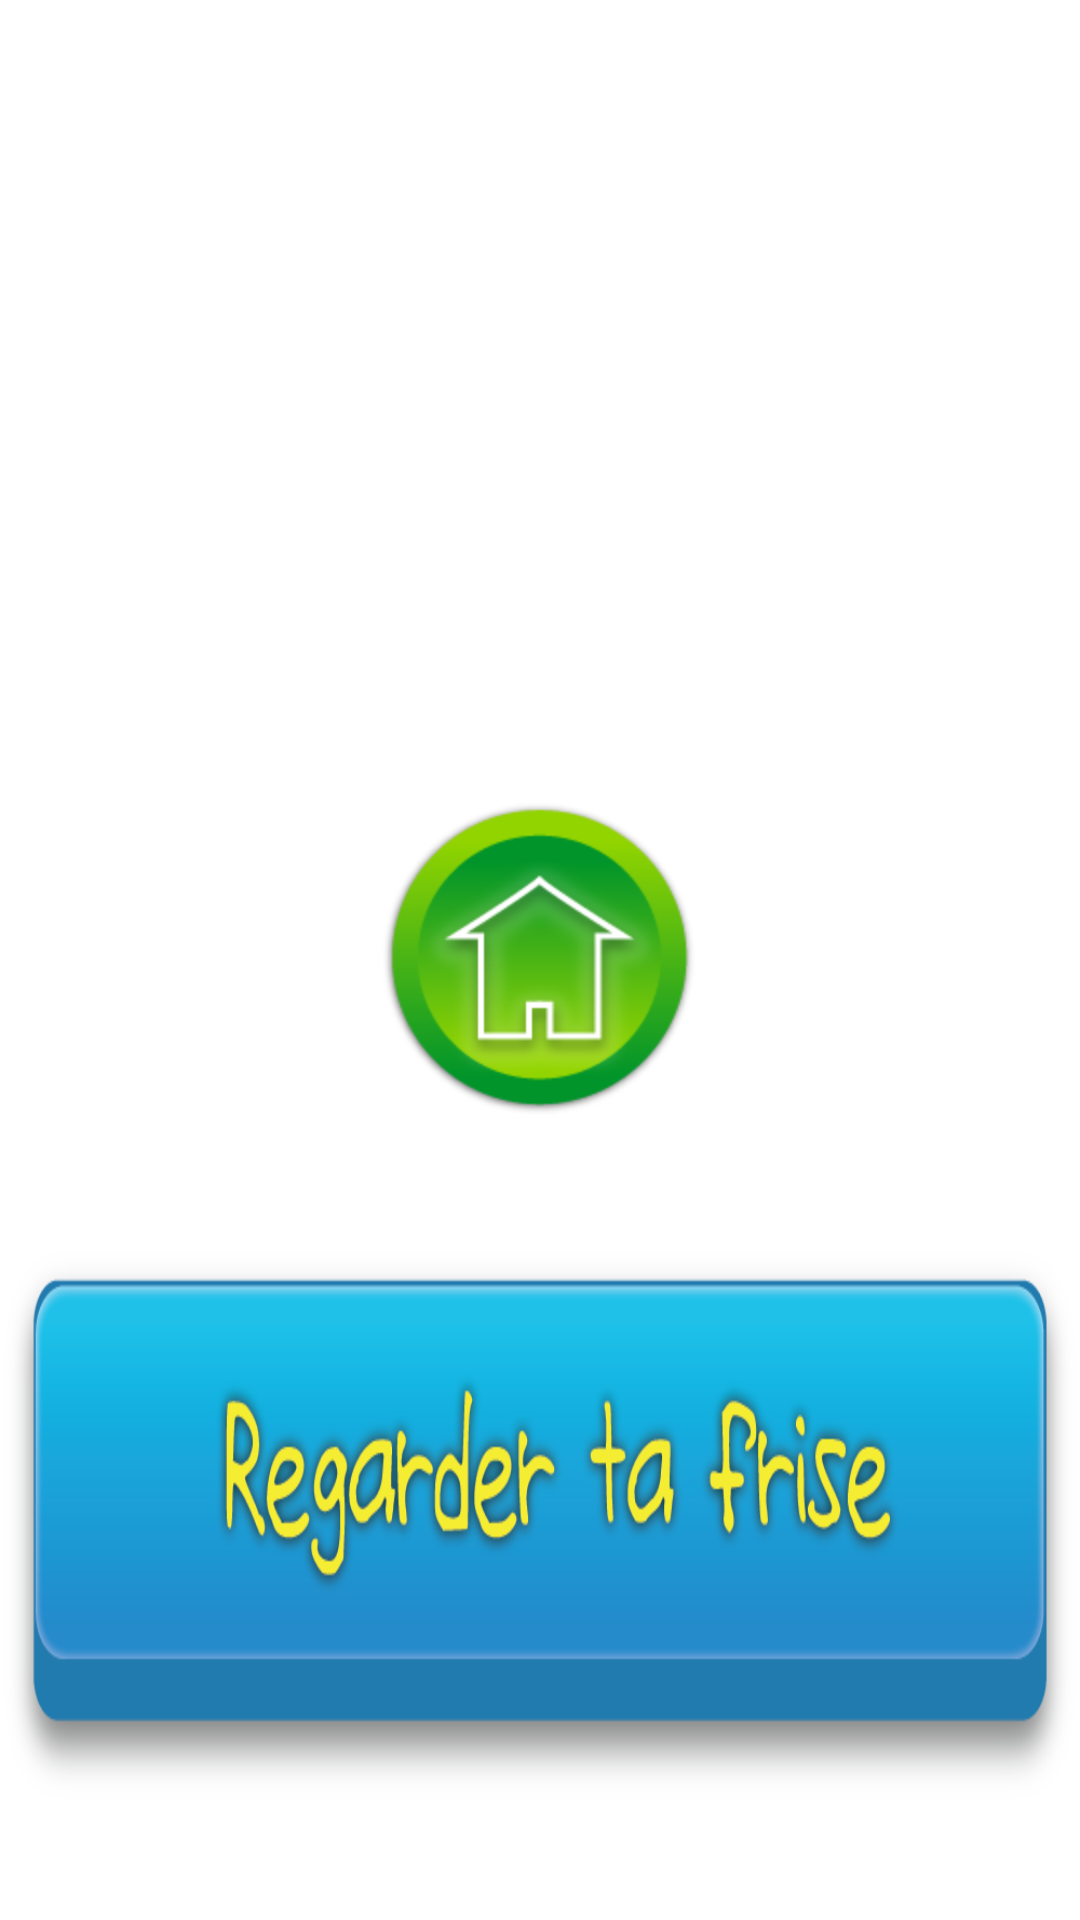

Icon click points for this 1080×1920 phone screenshot, format (x=x, y=y):
home: (x=539, y=959)
